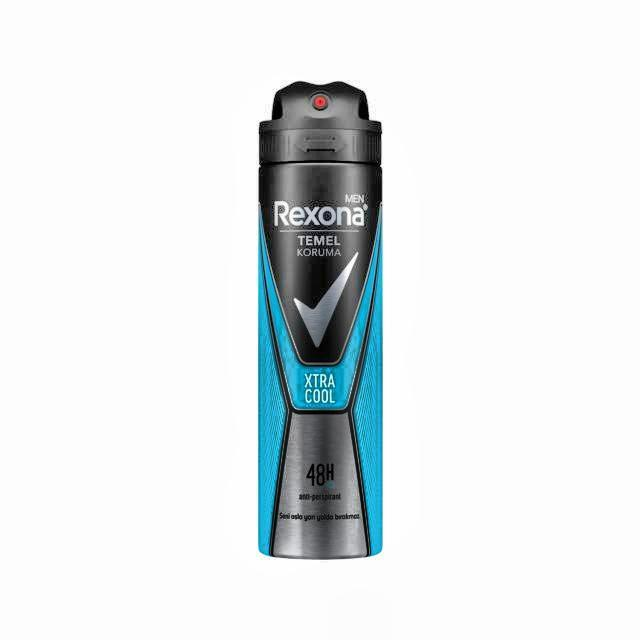metal: (257, 82, 387, 560)
